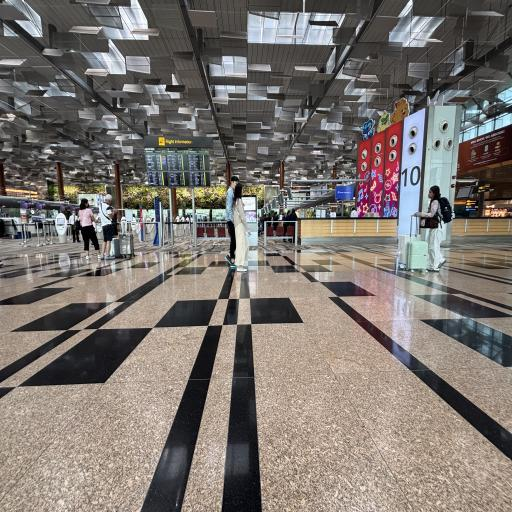person_right: (230, 181, 256, 277)
person_with_luggage_left: (394, 174, 452, 277)
